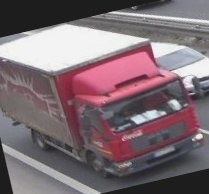car: (153, 38, 209, 106)
